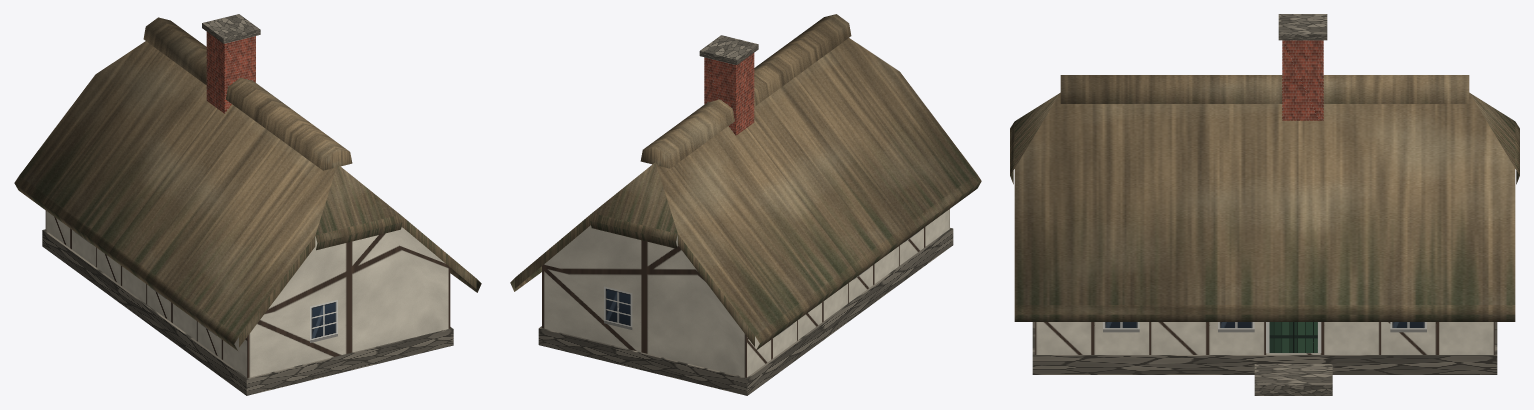
File: SM_Cottage.fbx
3 views of the same model, side by side, from view 1: azimuth 30°, elevation 25°; view 2: azimuth 150°, elevation 25°; view 3: azimuth 270°, elevation 25° (orthographic). The views are drawn at different scales.
Parts seen in each view (by area): view 1: SM_Cottage; view 2: SM_Cottage; view 3: SM_Cottage.
Boxes of the visible parts, x1=… form: SM_Cottage: x1=14, y1=14, x2=481, y2=395; SM_Cottage: x1=510, y1=14, x2=981, y2=395; SM_Cottage: x1=1010, y1=14, x2=1519, y2=395.
Size of the model in its own units: 759 by 1110 by 704.
Materials: 1 (1 with a texture image).
